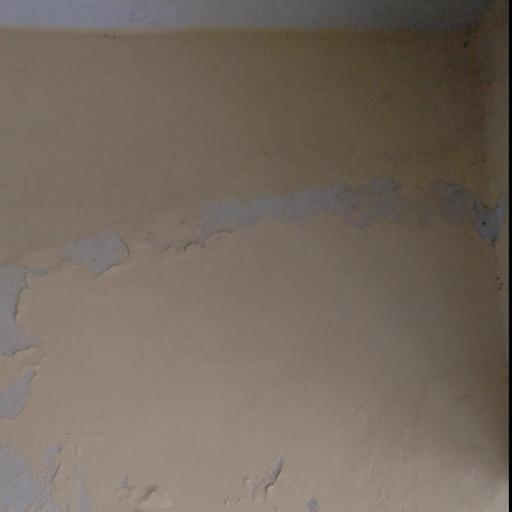peeling: (171, 162, 512, 273), (3, 215, 137, 364), (0, 369, 119, 511), (241, 420, 342, 512)
